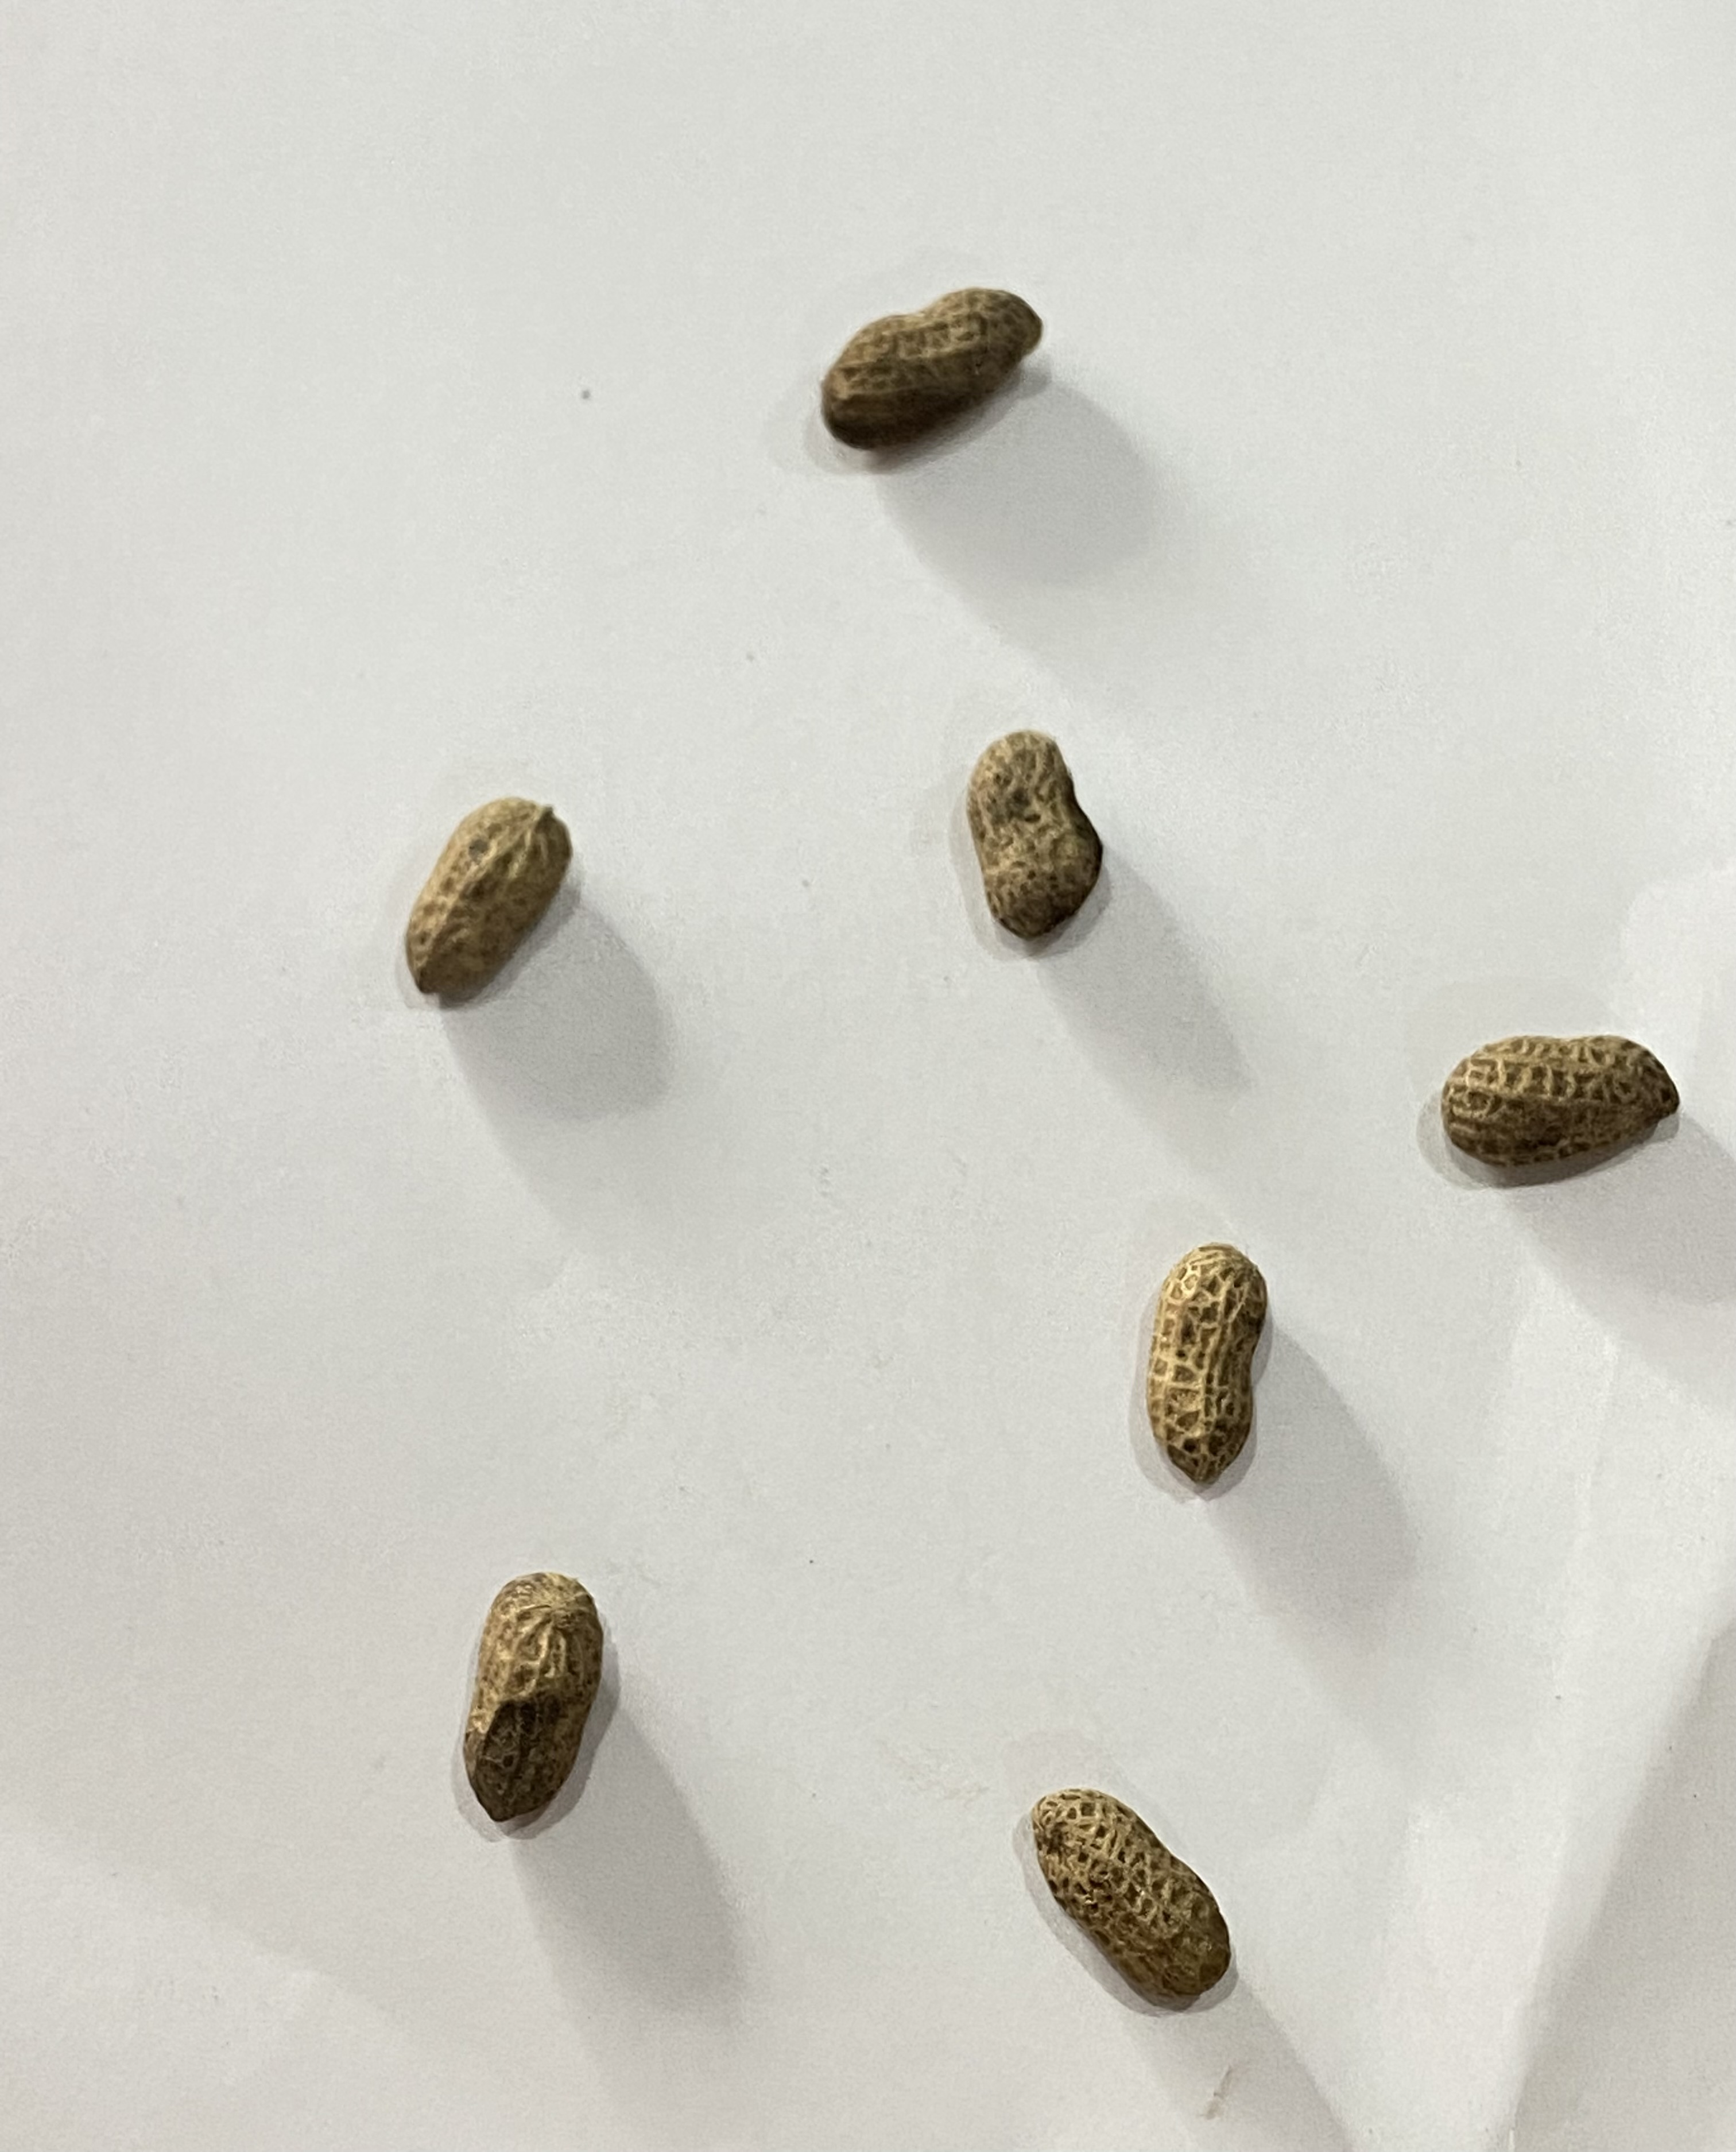kacang1: (390, 769, 602, 1029)
kacang2: (1008, 1787, 1284, 2001), (445, 1566, 624, 1863), (1109, 1220, 1277, 1511), (799, 280, 1070, 457), (1437, 1024, 1688, 1171), (960, 726, 1112, 941)
